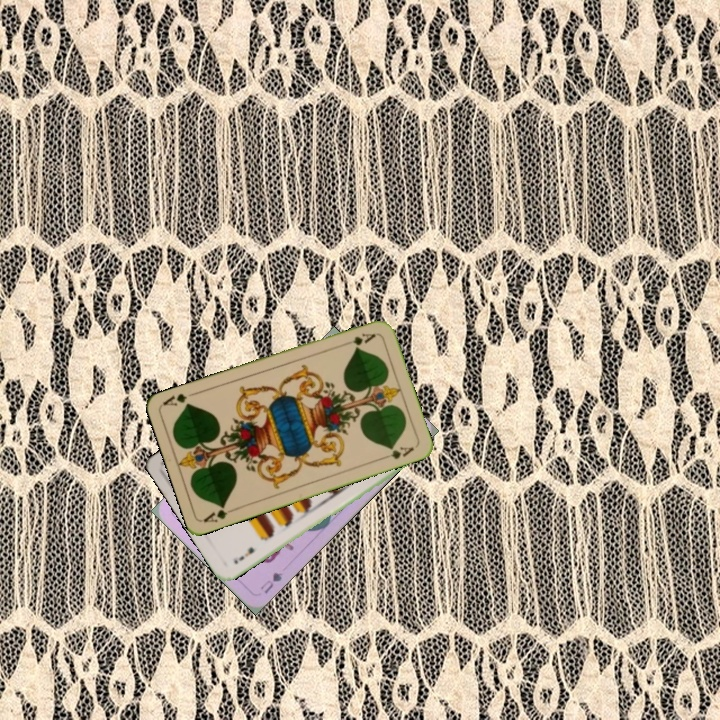E7: (229, 543, 257, 567)
GA: (200, 501, 239, 525), (339, 329, 378, 350)
GU: (256, 568, 285, 596)
